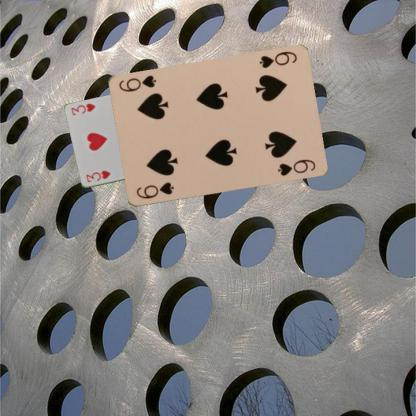3h: (83, 168, 112, 184)
6s: (257, 49, 298, 70), (134, 180, 174, 200)
